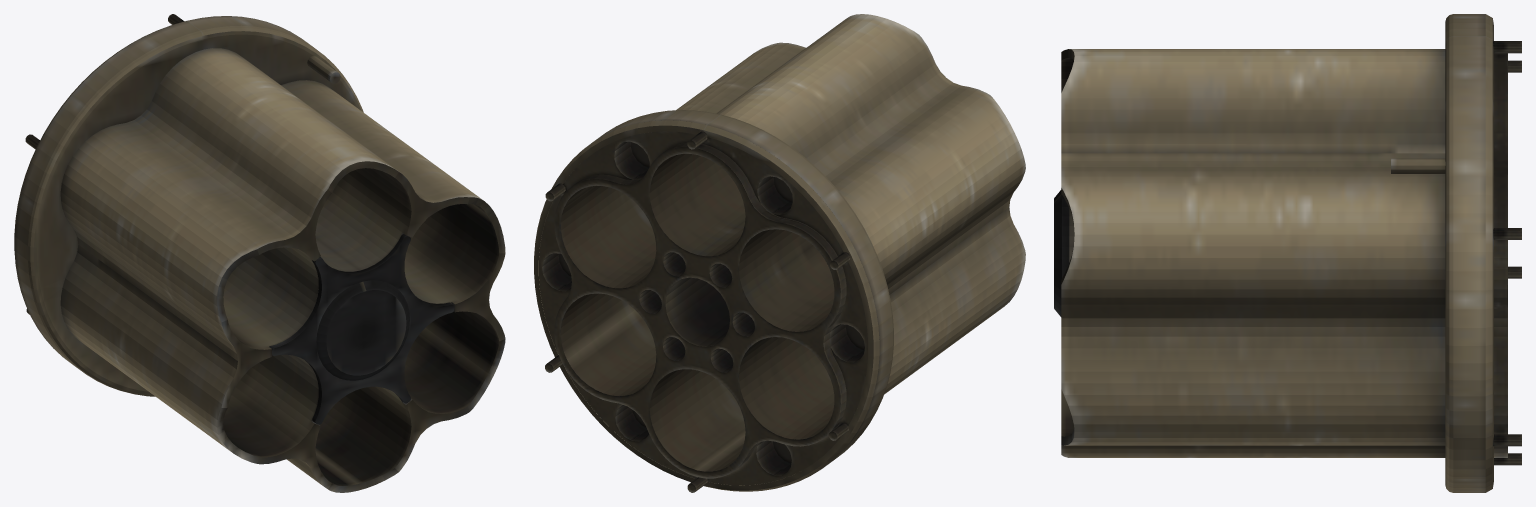
3 renders of one model, left to right at view 1: azimuth 30°, elevation 25°; view 2: azimuth 150°, elevation 25°; view 3: azimuth 270°, elevation 25°, orthographic. The views are drawn at different scales.
Parts seen in each view (by area): view 1: TW_627bce33f21bc425b06ab967_PZ_Import; view 2: TW_627bce33f21bc425b06ab967_PZ_Import; view 3: TW_627bce33f21bc425b06ab967_PZ_Import.
Part boxes in pixels (box(x1,y1,x2,y2)): TW_627bce33f21bc425b06ab967_PZ_Import: box(14, 14, 505, 492); TW_627bce33f21bc425b06ab967_PZ_Import: box(534, 14, 1025, 492); TW_627bce33f21bc425b06ab967_PZ_Import: box(1054, 14, 1521, 492).
Size of the model in its own units: 0.0832 by 0.0813 by 0.0833.
Materials: 1 (1 with a texture image).
